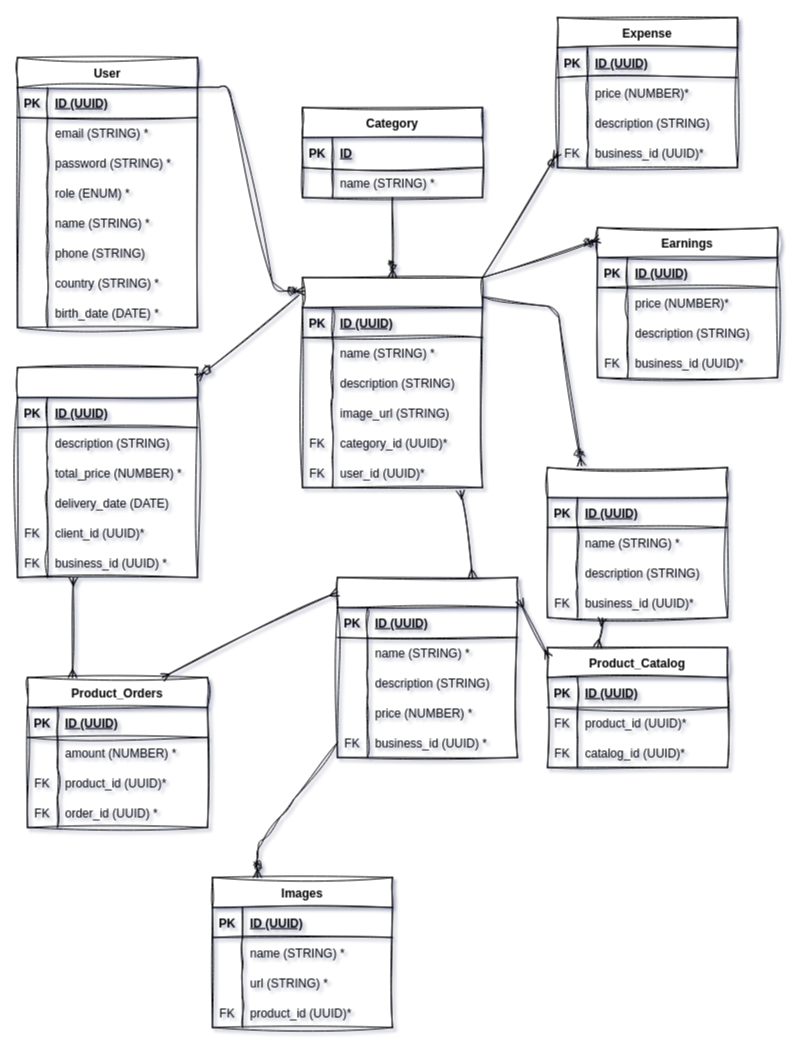
This 797x1048 diagram has some shape labels left out. The shapes that lost their labels are listed below. From the top down, each one's box as (x1, y1, x2, y2) in pixels, then its label:
(302, 276, 482, 488): Business
(16, 366, 198, 578): Orders
(546, 466, 728, 618): Catalog
(336, 576, 518, 758): Product
